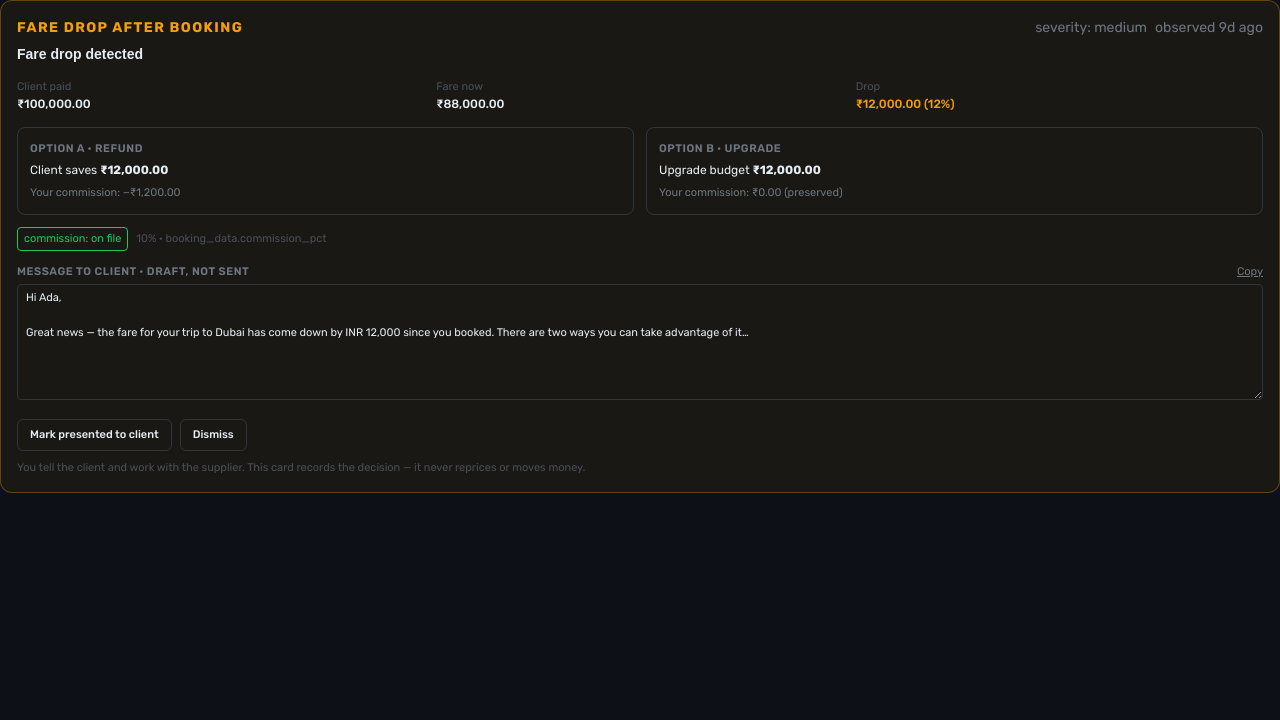
Test case: FareDropDecisionCard › surfaces a rejected transition as a message, not a crash
Expected: the element with test id "fare-drop-options" is shown, [17,127,1263,251]
Click the button with test id "fare-drop-action-dismissed": point(213, 435) [180,419,247,451]
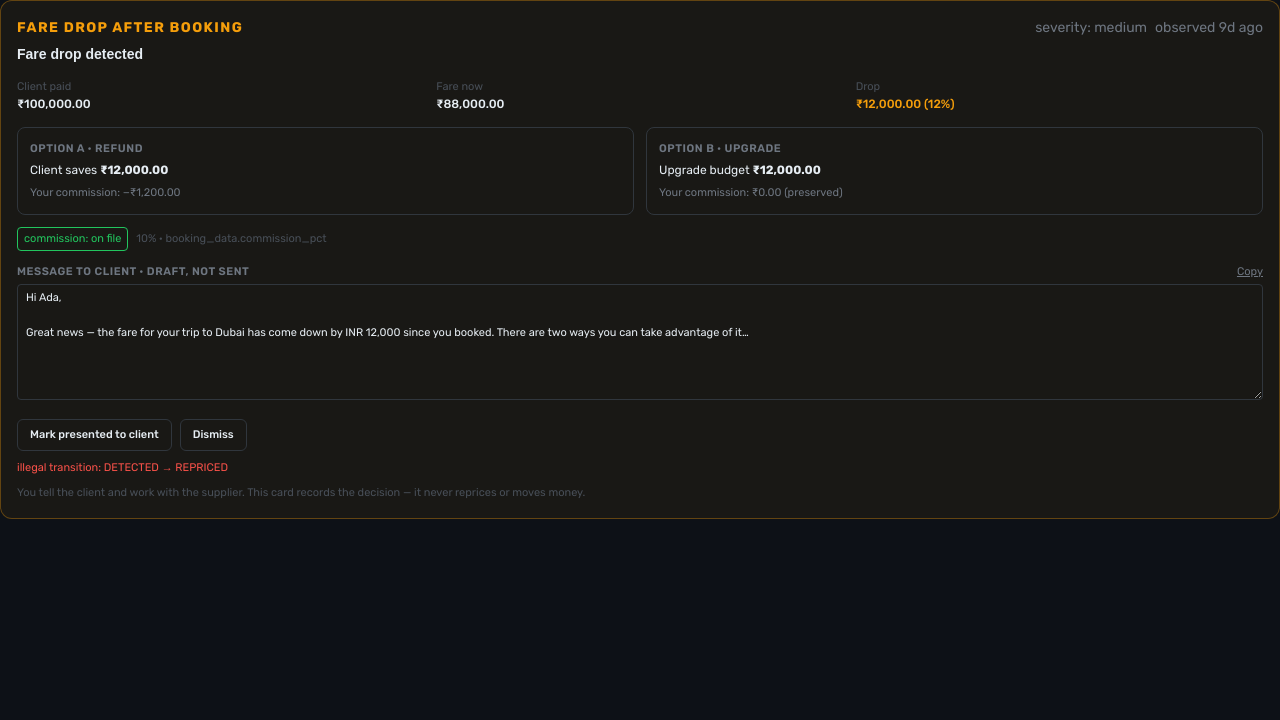
Expected: the message shows "illegal transition", [17,461,228,474]
